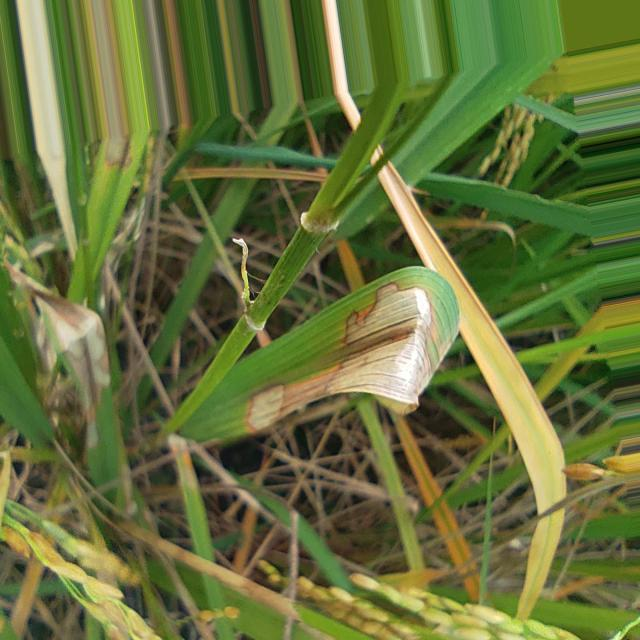Leaf_Blast: (379, 162, 566, 618), (392, 413, 480, 602), (326, 0, 360, 128), (338, 240, 365, 292), (305, 118, 322, 157)
Rice False Smut: (245, 283, 432, 432)
